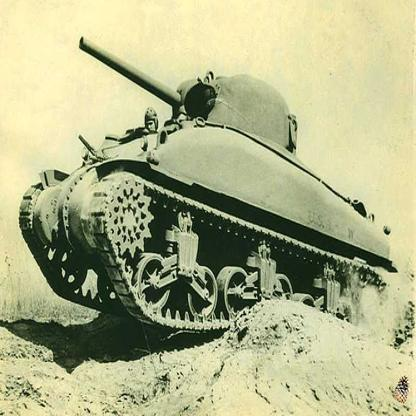Tank: (18, 25, 411, 349)
